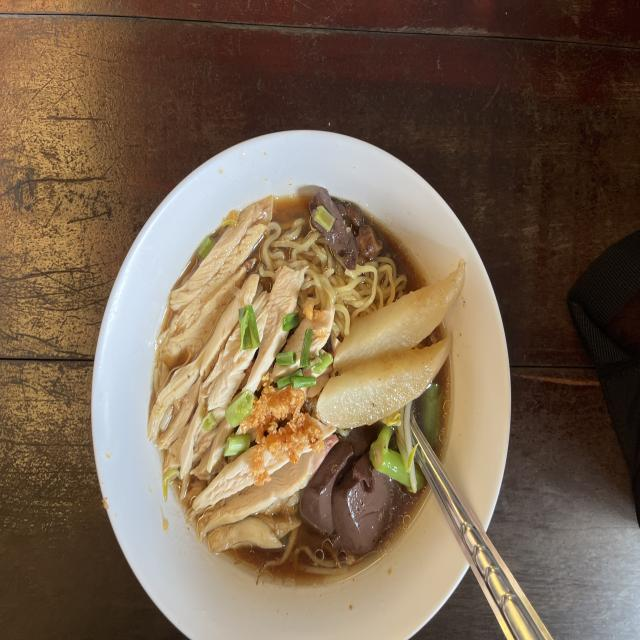boiled_chicken_blood_jelly: (314, 433, 391, 544)
chicken_shredded: (163, 213, 304, 529)
daikon_radish: (334, 262, 466, 373), (315, 341, 459, 422)
noodle: (142, 174, 478, 598)
